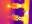Hotspot: (22, 0, 30, 23), (6, 3, 23, 8), (14, 14, 22, 21)
